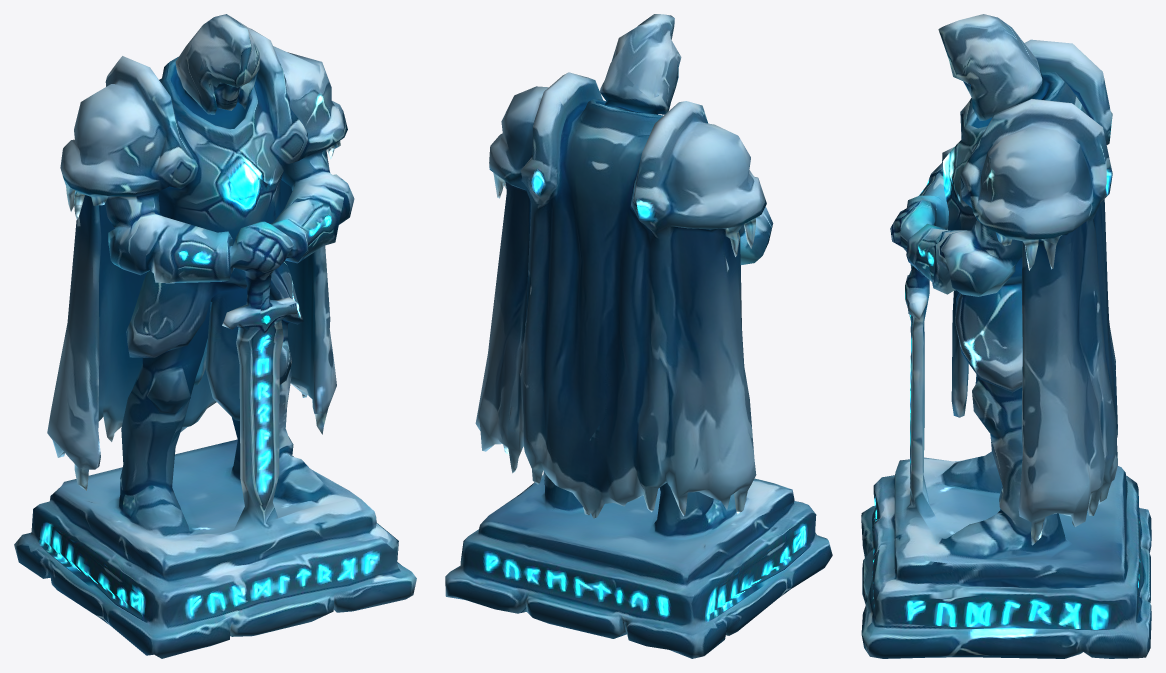
The model's file is ice_knight_statue.glb.
The picture shows the model from 3 angles, left to right: view 1: azimuth 30°, elevation 25°; view 2: azimuth 150°, elevation 25°; view 3: azimuth 270°, elevation 25°; orthographic projection. The views are drawn at different scales.
Visible parts, largest first — view 1: IceKnightStatue; view 2: IceKnightStatue; view 3: IceKnightStatue.
Part boxes in pixels (x1,y1,x2,y2): IceKnightStatue: (14, 14, 416, 658); IceKnightStatue: (445, 14, 832, 658); IceKnightStatue: (861, 14, 1151, 658).
Bounding box in the file's own units: 0.9504 × 1.89 × 0.8612.
1 material, 1 textured.
